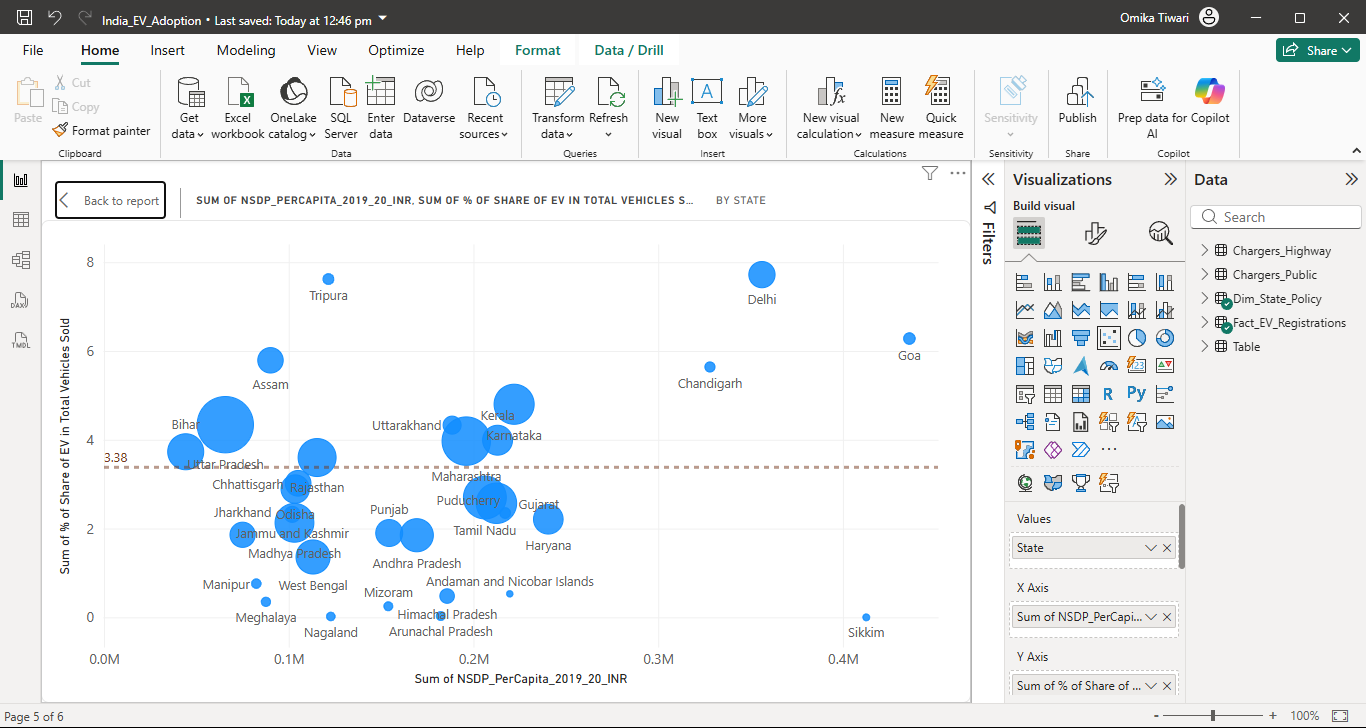

The page's visual inventory and layout, read from the dashboard file:
{"tool":"powerbi","page":{"name":"Income","canvas":[1920,1080],"ordinal":4},"visuals":[{"type":"columnChart","box":[10,0,280,280],"z":0},{"type":"scatterChart","fields":{"Category":["Dim_State_Policy.State"],"Size":["Sum(Fact_EV_Registrations.Total Vehicles Sold)"],"X":["Sum(Dim_State_Policy.NSDP_PerCapita_2019_20_INR)"],"Y":["Sum(Fact_EV_Registrations.% of Share of EV in Total Vehicles Sold)"]},"box":[20.2,10.1,1899.8,1070.9],"z":1}]}

Visuals, with their boxes on the page's 1920x1080 design canvas (x1, y1, x2, y2). These are canvas units, not pixel positions in the 1366x728 screenshot, which may show the page scaled, cropped or inside an application window:
columnChart: locate(10, 0, 290, 280)
scatterChart - Dim_State_Policy.State x Sum(Fact_EV_Registrations.Total Vehicles Sold): locate(20, 10, 1920, 1081)
